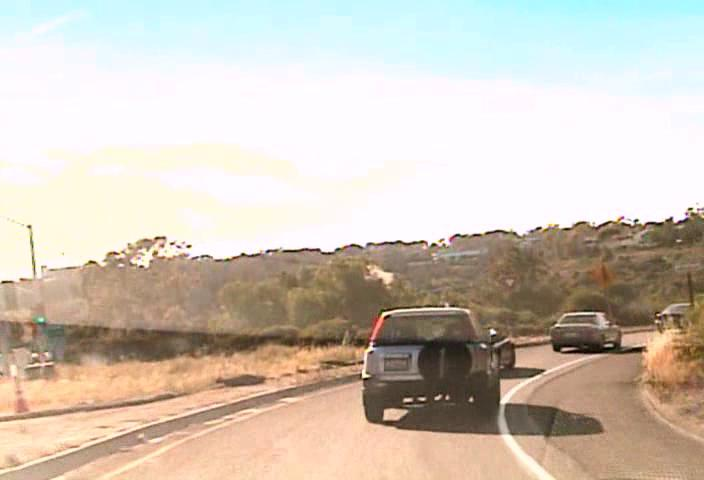yield: (500, 274, 518, 290)
